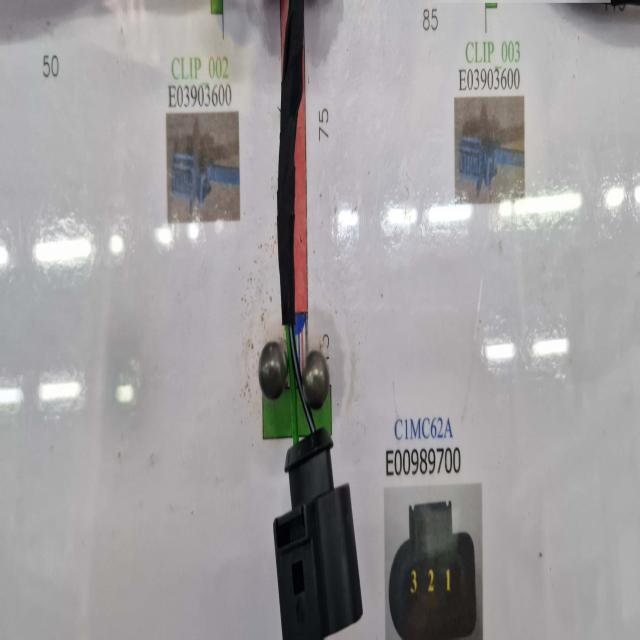Connector: (276, 433, 357, 640)
Gape: (280, 324, 312, 444)
MHEV_N11_Cable: (278, 0, 307, 334)
